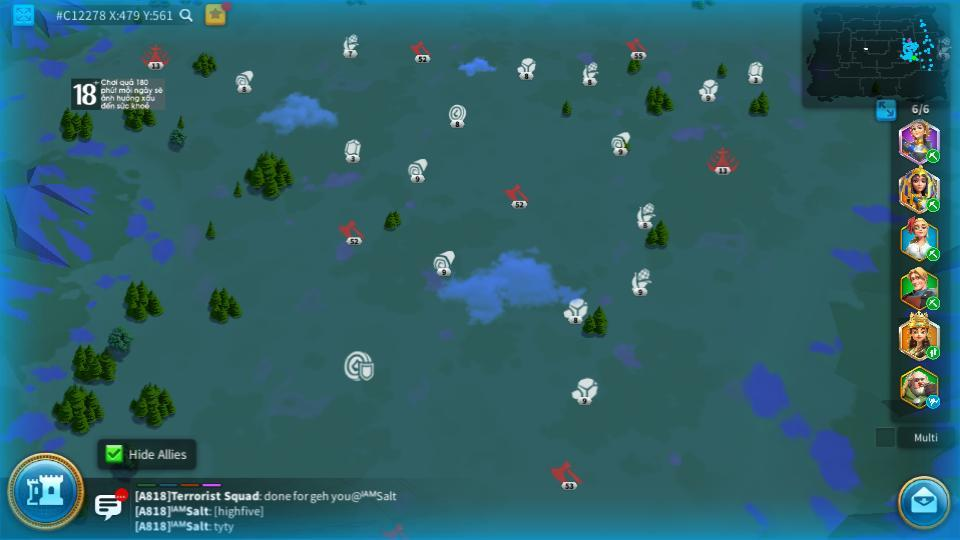gem-z-out: (344, 138, 363, 161)
march_farming: (924, 197, 939, 212), (925, 248, 941, 261)
march_marching: (925, 148, 941, 161), (925, 395, 942, 407), (925, 297, 942, 309), (925, 347, 941, 359)
